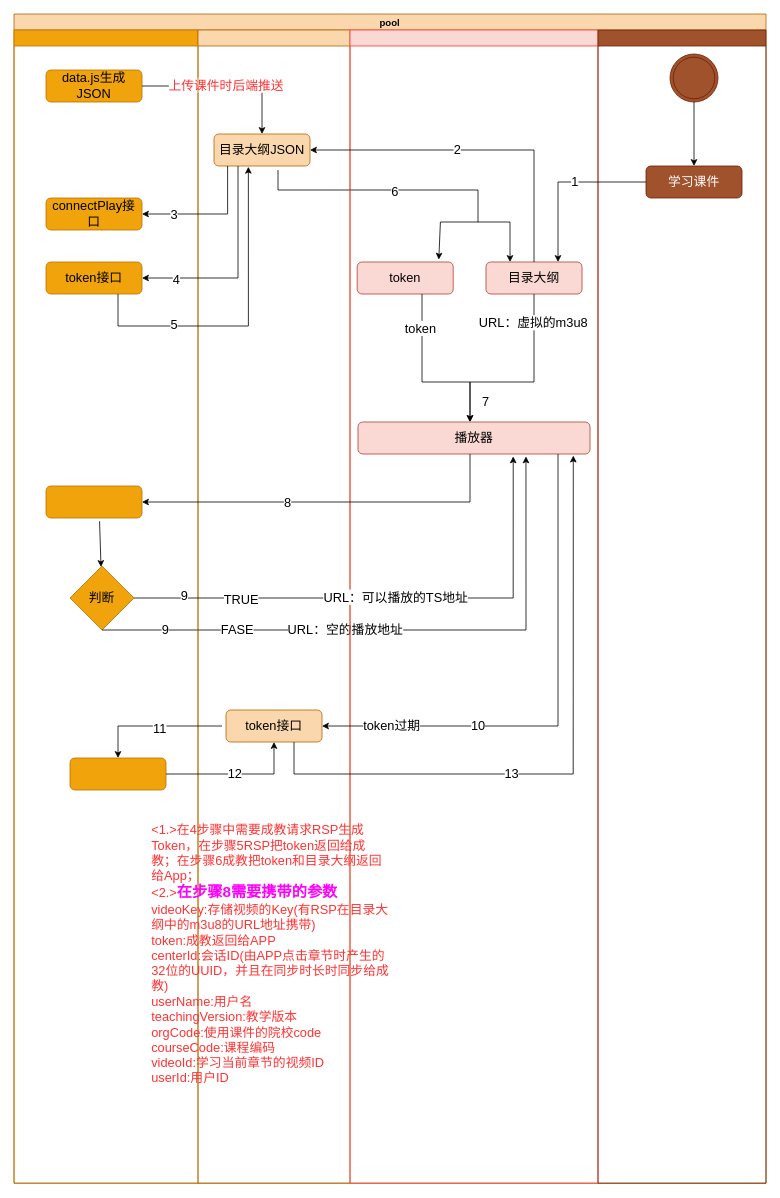
The diagram is 780 pixels wide and 1198 high, and some of its shapes have lost their labels. Each missing label, with the box of its shape:
APP: (349, 29, 598, 1183)
RSP: (13, 29, 198, 1183)
学生: (597, 29, 766, 1183)
成教: (197, 29, 350, 1183)
生成token接口: (69, 757, 166, 790)
验证接口: (45, 485, 142, 518)
